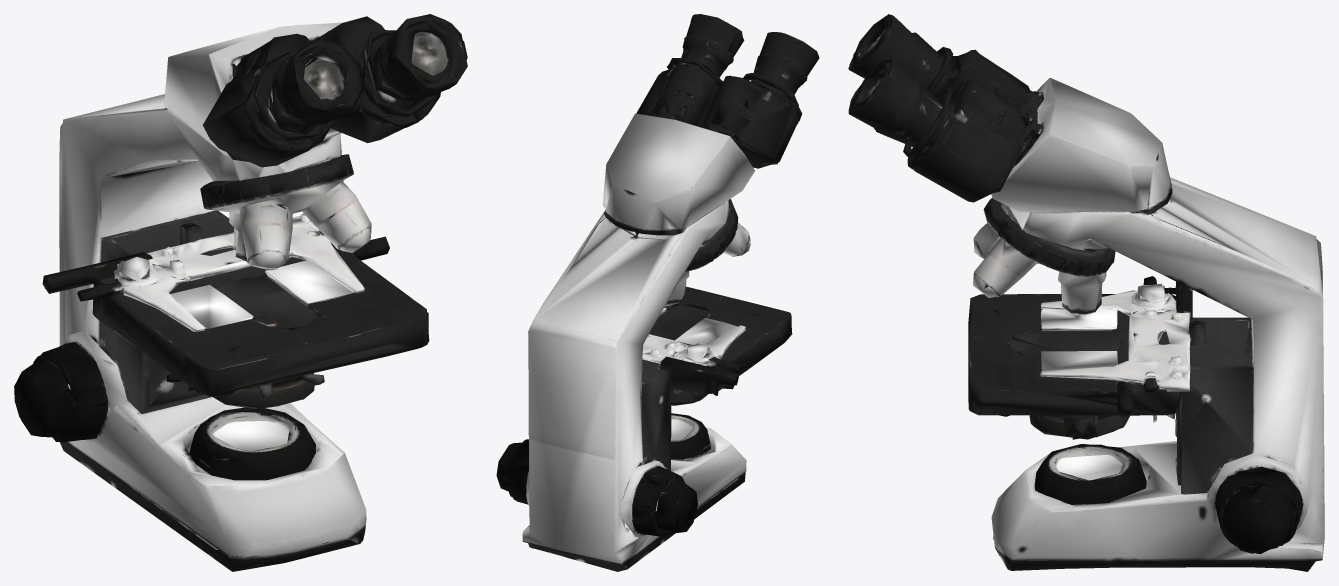
The model's file is microscopio.glb.
The picture shows the model from 3 angles, left to right: view 1: azimuth 30°, elevation 25°; view 2: azimuth 150°, elevation 25°; view 3: azimuth 270°, elevation 25°; orthographic projection. The views are drawn at different scales.
Visible parts, largest first — view 1: geometry_0; view 2: geometry_0; view 3: geometry_0.
Part boxes in pixels (left/top/right/bottom): geometry_0: left=14, top=14, right=467, bottom=571; geometry_0: left=496, top=14, right=819, bottom=571; geometry_0: left=848, top=14, right=1324, bottom=571.
Size of the model in its own units: 0.5515 by 0.9995 by 0.8556.
1 material, 1 textured.
